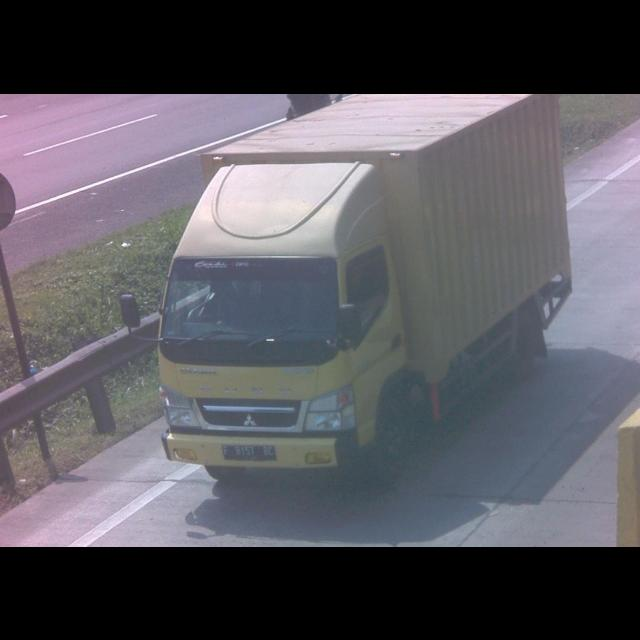plate: (220, 443, 278, 461)
